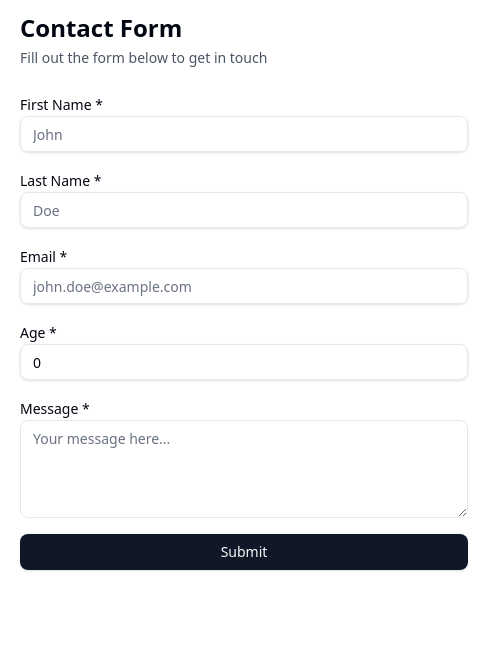
Test: ContactForm › should show submitting state during submission
Fill in fields
Step 1. Type "Jane" into the field labelled "First Name *" → (244, 134), box [20,116,468,152]
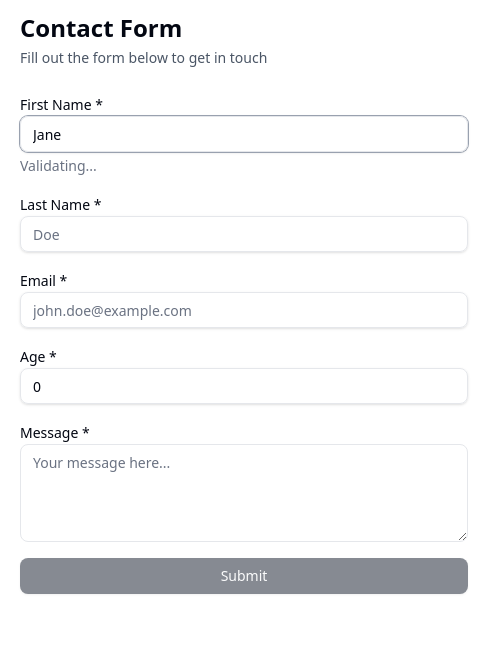
Step 2. Type "Smith" into the field labelled "Last Name *" → (244, 234), box [20,216,468,252]
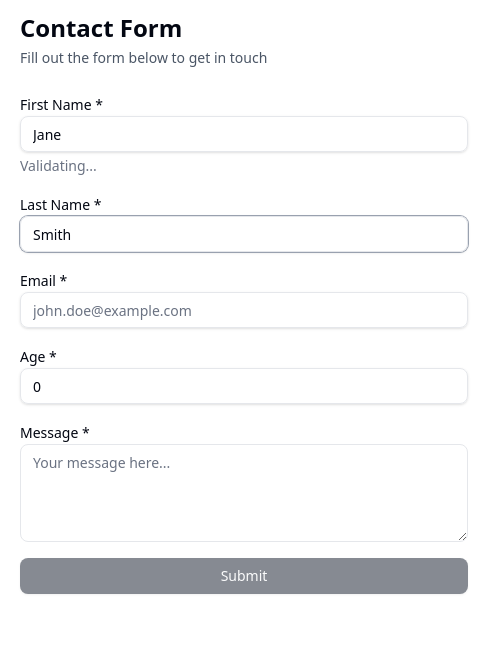
Step 3. Type "jane@example.com" into the field labelled "Email *" → (244, 310), box [20,292,468,328]
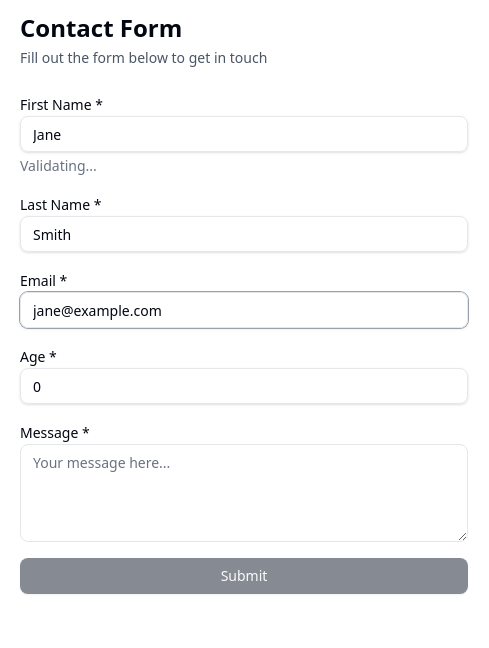
Step 4. Replace the text in the number field labelled "Age *" with "30" → (244, 386), box [20,368,468,404]
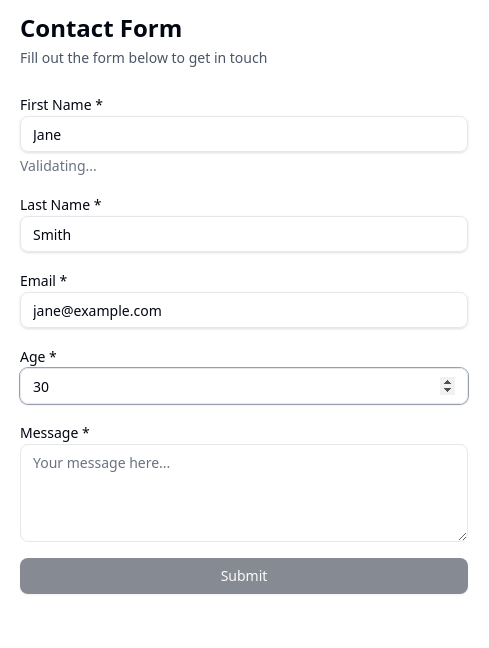
Step 5. Type "Another valid message" into the text box labelled "Message *" → (244, 493), box [20,444,468,542]
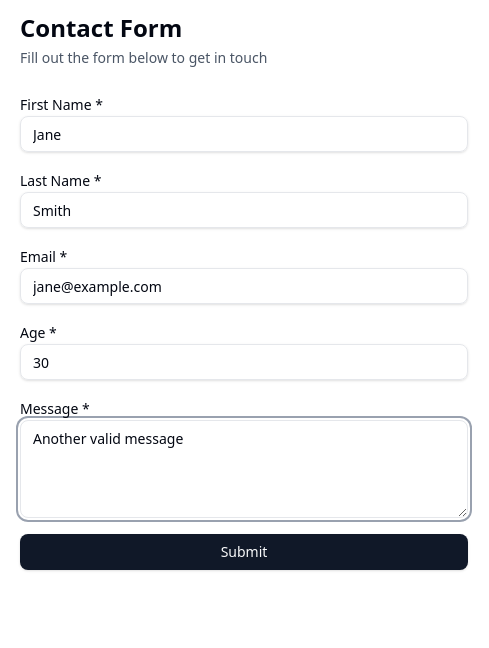
Submit the form
Step 6. Click the button "Submit" → (244, 552), box [20,534,468,570]
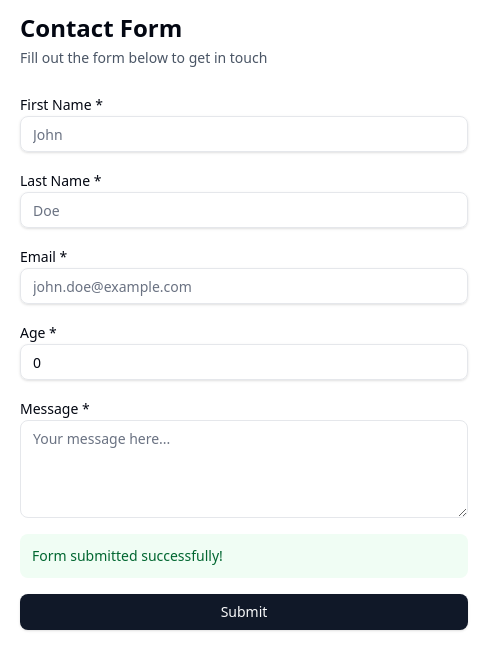
Expected: the button "submitting" is shown, [20,594,468,630]
Result: the text "Form submitted successfully!" is shown at [20,534,468,578]
